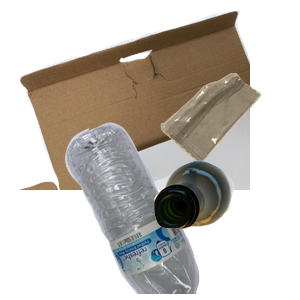cardboard: (16, 10, 256, 190)
glass: (151, 158, 300, 300)
plastic: (63, 120, 263, 300)
trash: (158, 71, 300, 227)
